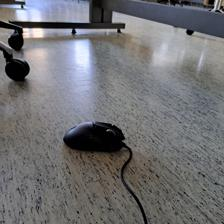mouse: (62, 119, 125, 153)
